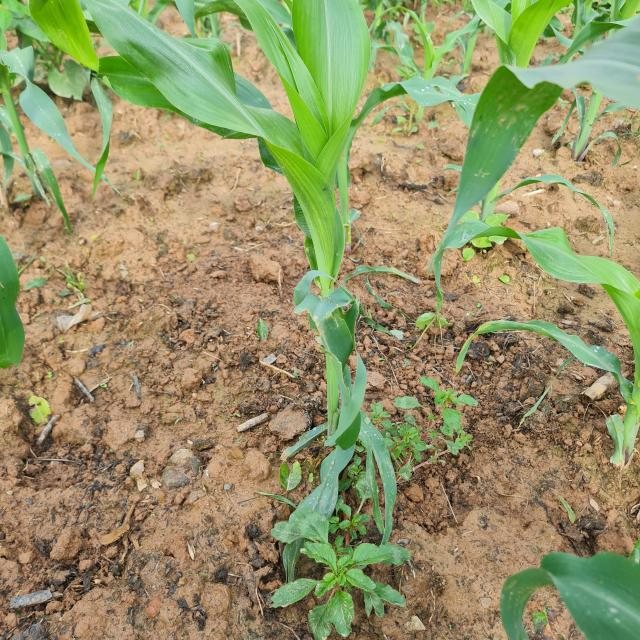maize: (0, 0, 640, 360), (512, 539, 640, 640)
weed: (279, 519, 398, 639), (408, 364, 499, 478)
